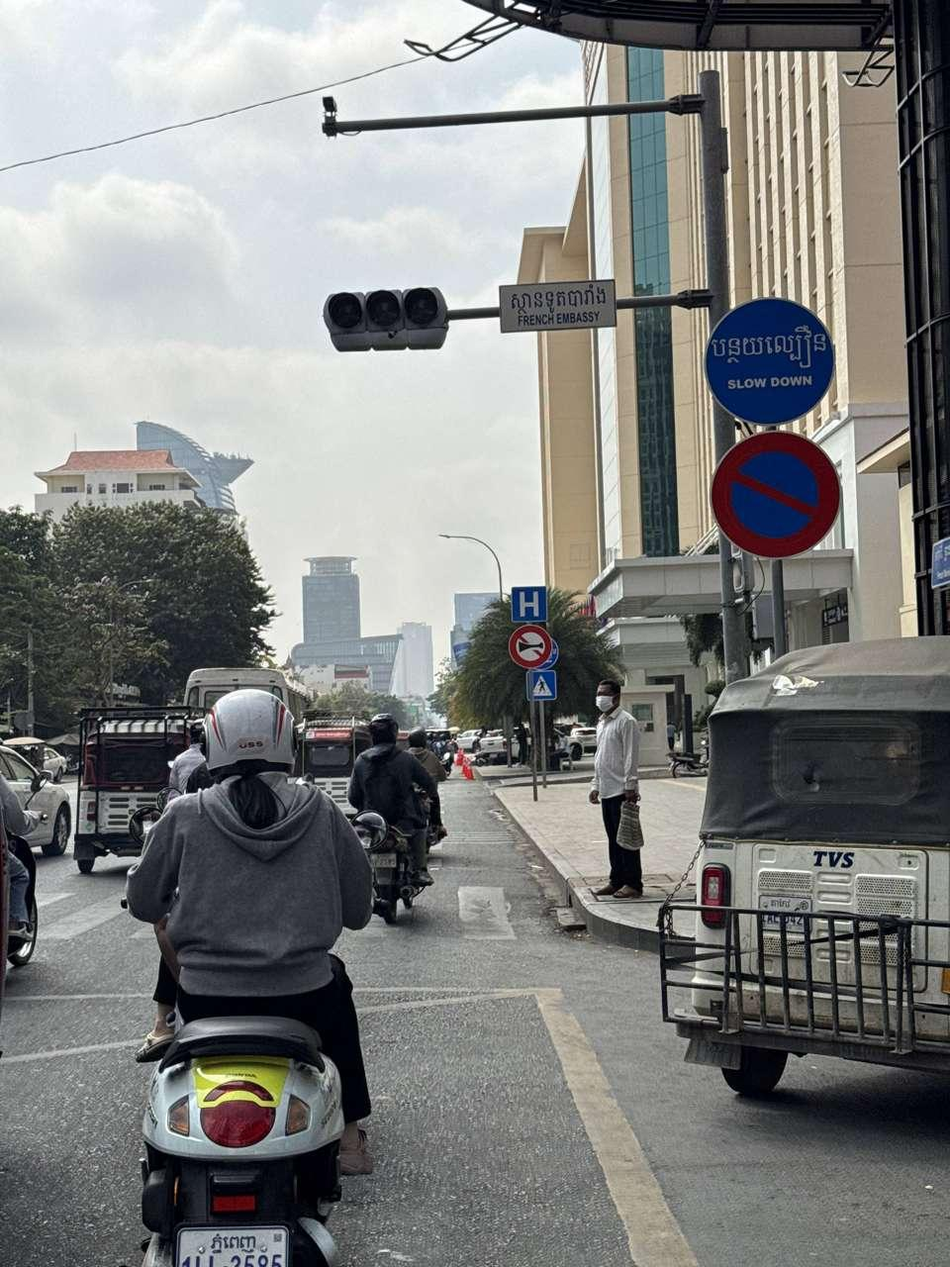hospital: (511, 585, 549, 622)
no_honking: (508, 624, 553, 669)
parking_prohibited: (711, 431, 846, 561)
pedestrian_crossing: (530, 670, 556, 701)
slow_down: (707, 297, 839, 428)
